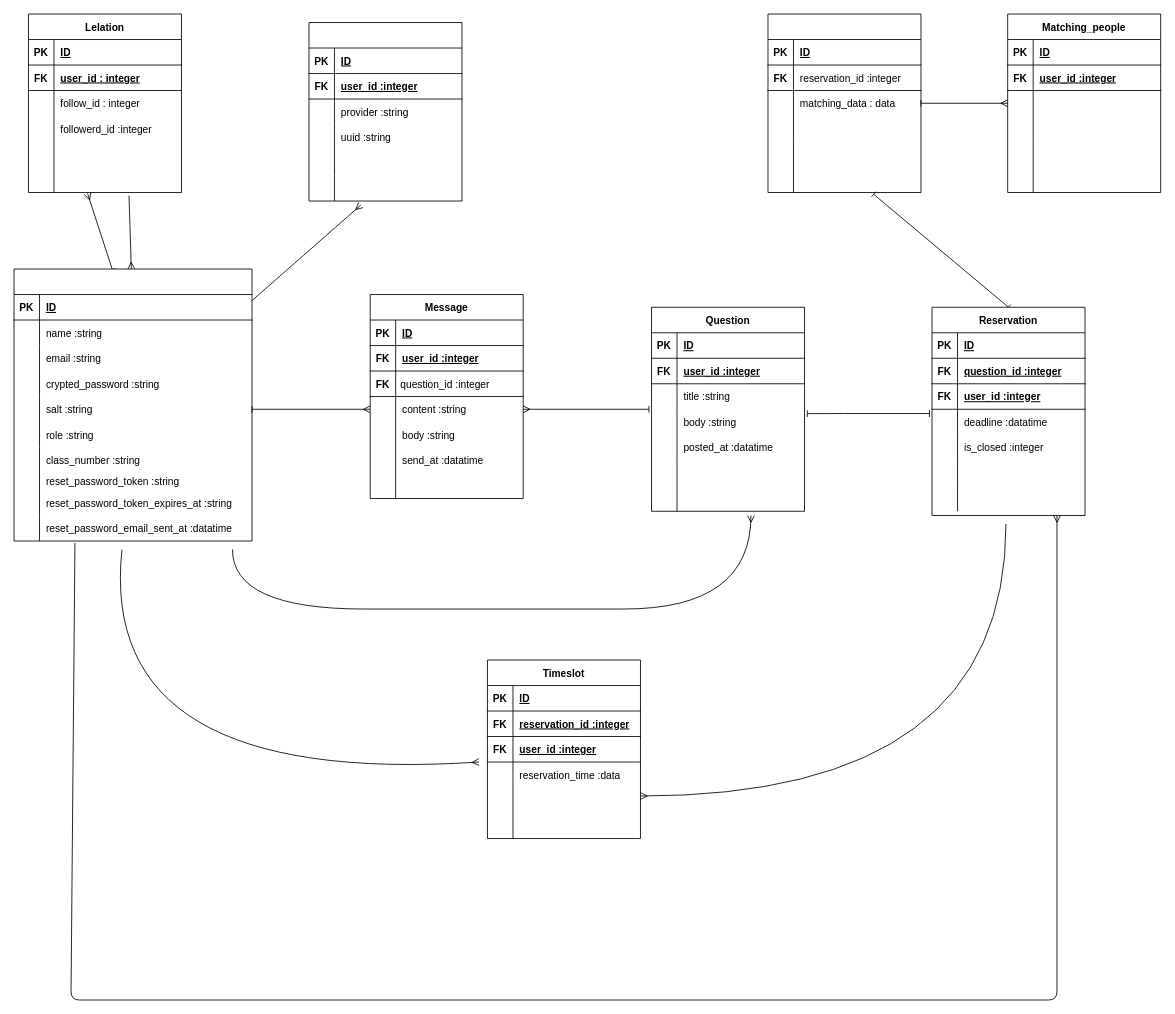
Image size: 1175x1014. Some labels were removed from this diagram. Each missing label, with the box of its shape:
Maching_time: (767, 13, 921, 193)
User_authentication: (308, 22, 462, 201)
Users: (13, 268, 252, 541)
